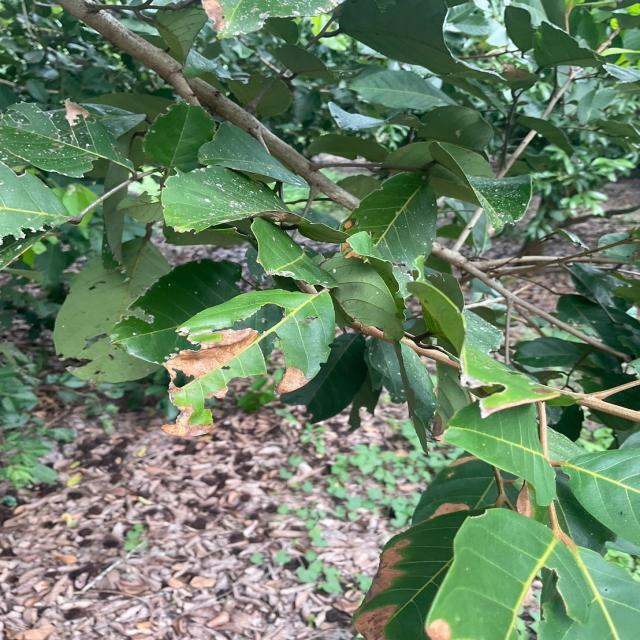Leaf Blight: (169, 303, 326, 437), (351, 536, 419, 640)
